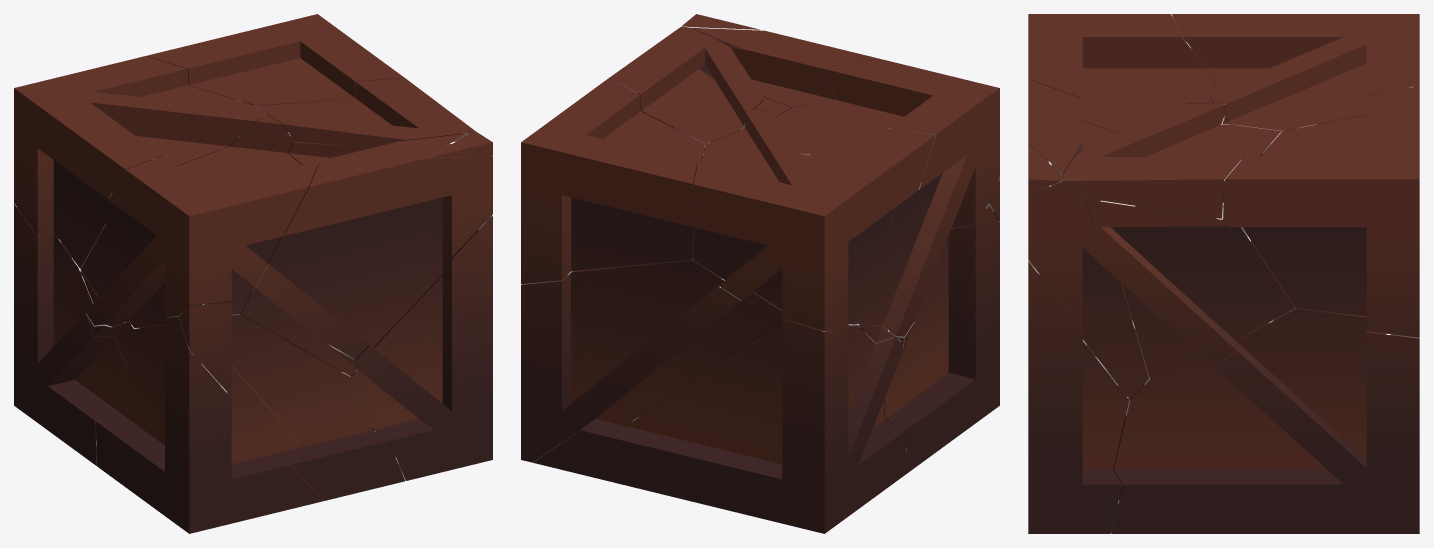
Rendered from WRLD_FBX_CRATE_CRUSHED_HOLLOW.fbx.
3 renders of one model, left to right at view 1: azimuth 30°, elevation 25°; view 2: azimuth 150°, elevation 25°; view 3: azimuth 270°, elevation 25°, orthographic. The views are drawn at different scales.
Visible parts, largest first — view 1: Cube.015_cell.011, Cube.015_cell.006, Cube.015_cell.004, Cube.015_cell.005, Cube.015_cell.003, Cube.015_cell.007, Cube.015_cell.008, Cube.015_cell.010, Cube.015_cell.009, Cube.015_cell, Cube.015_cell.001, Cube.015_cell.013; view 2: Cube.015_cell.008, Cube.015_cell.005, Cube.015_cell.002, Cube.015_cell.010, Cube.015_cell.006, Cube.015_cell.004, Cube.015_cell.009, Cube.015_cell.011, Cube.015_cell.001; view 3: Cube.015_cell.002, Cube.015_cell.010, Cube.015_cell.005, Cube.015_cell, Cube.015_cell.003, Cube.015_cell.011, Cube.015_cell.006, Cube.015_cell.009, Cube.015_cell.001.
Boxes of the visible parts, left/top/right/bottom form: Cube.015_cell.011: left=240, top=133, right=492, bottom=377; Cube.015_cell.006: left=80, top=116, right=319, bottom=328; Cube.015_cell.004: left=96, top=316, right=323, bottom=533; Cube.015_cell.005: left=14, top=56, right=268, bottom=268; Cube.015_cell.003: left=351, top=216, right=492, bottom=480; Cube.015_cell.007: left=179, top=302, right=404, bottom=500; Cube.015_cell.008: left=14, top=203, right=128, bottom=465; Cube.015_cell.010: left=146, top=14, right=404, bottom=106; Cube.015_cell.009: left=257, top=78, right=476, bottom=146; Cube.015_cell: left=287, top=141, right=374, bottom=164; Cube.015_cell.001: left=429, top=132, right=492, bottom=157; Cube.015_cell.013: left=80, top=268, right=137, bottom=365; Cube.015_cell.008: left=533, top=319, right=907, bottom=533; Cube.015_cell.005: left=692, top=109, right=935, bottom=331; Cube.015_cell.002: left=521, top=258, right=783, bottom=462; Cube.015_cell.010: left=521, top=78, right=704, bottom=283; Cube.015_cell.006: left=742, top=59, right=999, bottom=336; Cube.015_cell.004: left=884, top=204, right=999, bottom=472; Cube.015_cell.009: left=608, top=27, right=764, bottom=146; Cube.015_cell.011: left=689, top=27, right=879, bottom=107; Cube.015_cell.001: left=681, top=14, right=759, bottom=29; Cube.015_cell.002: left=1111, top=307, right=1419, bottom=533; Cube.015_cell.010: left=1223, top=86, right=1419, bottom=337; Cube.015_cell.005: left=1172, top=14, right=1419, bottom=131; Cube.015_cell: left=1085, top=198, right=1295, bottom=378; Cube.015_cell.003: left=1028, top=261, right=1129, bottom=533; Cube.015_cell.011: left=1028, top=79, right=1149, bottom=399; Cube.015_cell.006: left=1028, top=14, right=1229, bottom=133; Cube.015_cell.009: left=1063, top=103, right=1281, bottom=218; Cube.015_cell.001: left=1028, top=144, right=1062, bottom=193.
Size of the model in its own units: 85.6 by 85.6 by 85.6.
